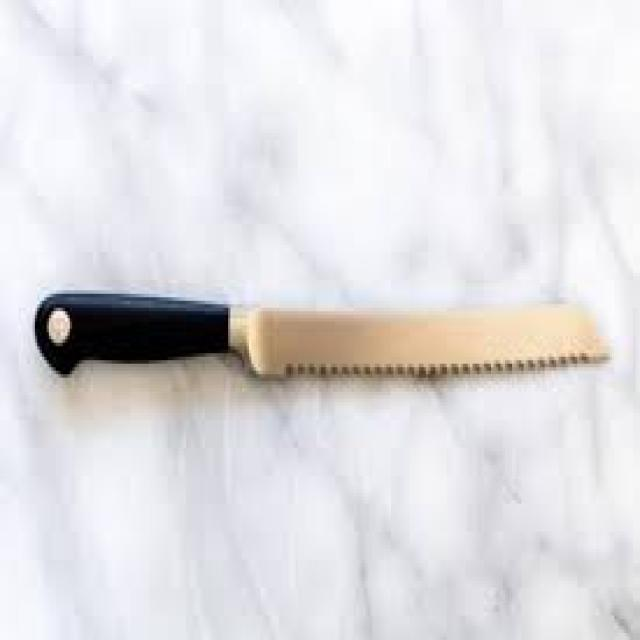Knife: (33, 290, 607, 378)
